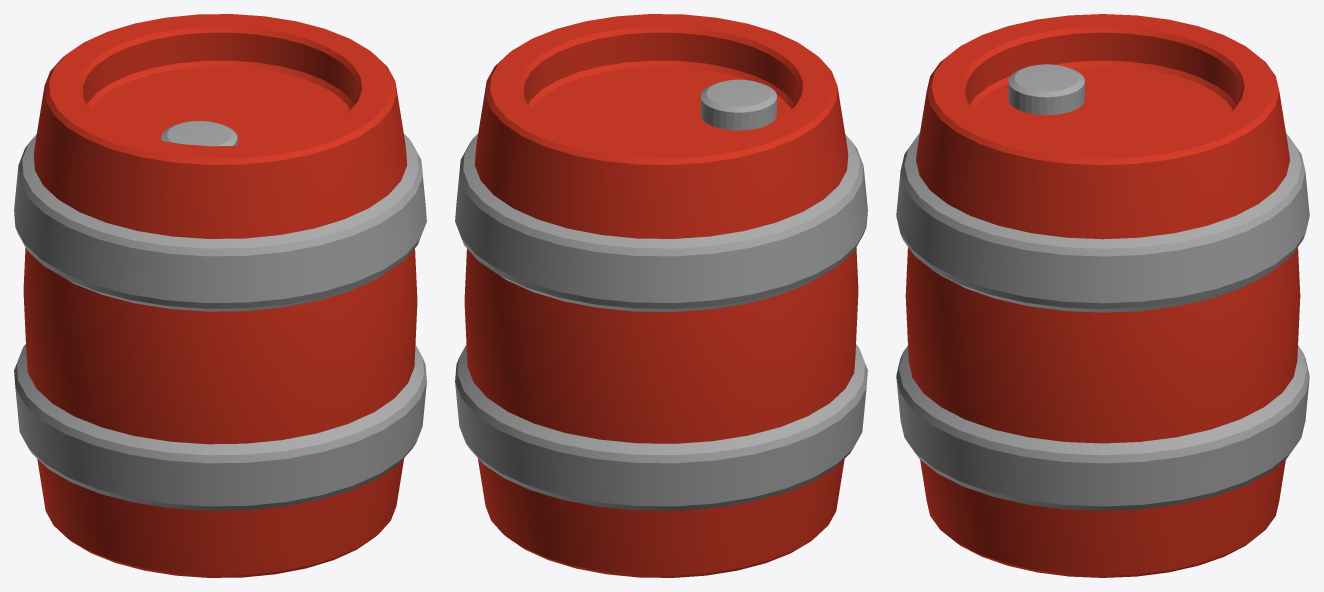
The model's file is Barrel.glb.
The picture shows the model from 3 angles, left to right: view 1: azimuth 30°, elevation 25°; view 2: azimuth 150°, elevation 25°; view 3: azimuth 270°, elevation 25°; orthographic projection.
Parts seen in each view (by area): view 1: Body, Bands, top; view 2: Body, Bands, top; view 3: Body, Bands, top.
Boxes of the visible parts, x1,y1,x2,y2 form: Body: (23, 14, 417, 577); Bands: (14, 133, 426, 510); top: (161, 121, 237, 146); Body: (464, 14, 858, 577); Bands: (455, 133, 867, 510); top: (700, 79, 776, 130); Body: (905, 14, 1300, 577); Bands: (896, 133, 1309, 510); top: (1008, 64, 1084, 115).
Bounding box in the file's own units: 1.74 × 1.95 × 1.74.
